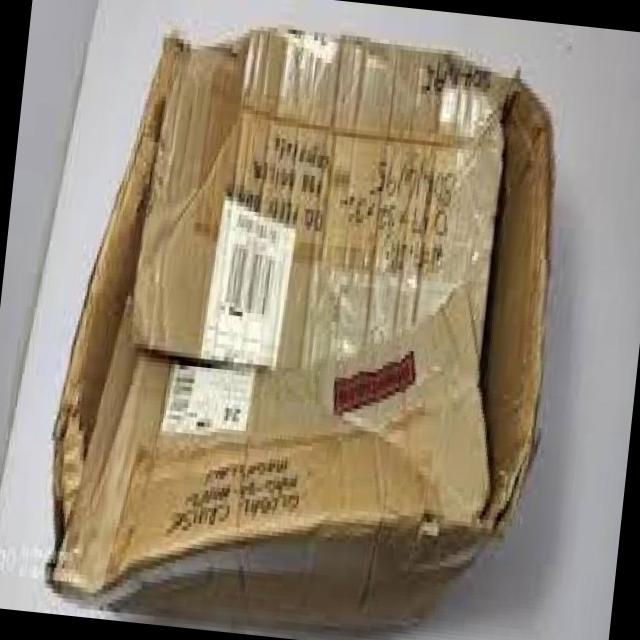box: (50, 28, 556, 636)
crushed: (221, 79, 454, 464), (58, 33, 187, 537), (46, 537, 173, 616)
opened: (478, 66, 556, 546)
